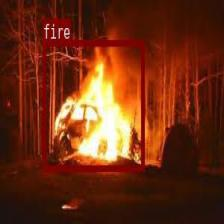fire: (43, 40, 144, 170)
